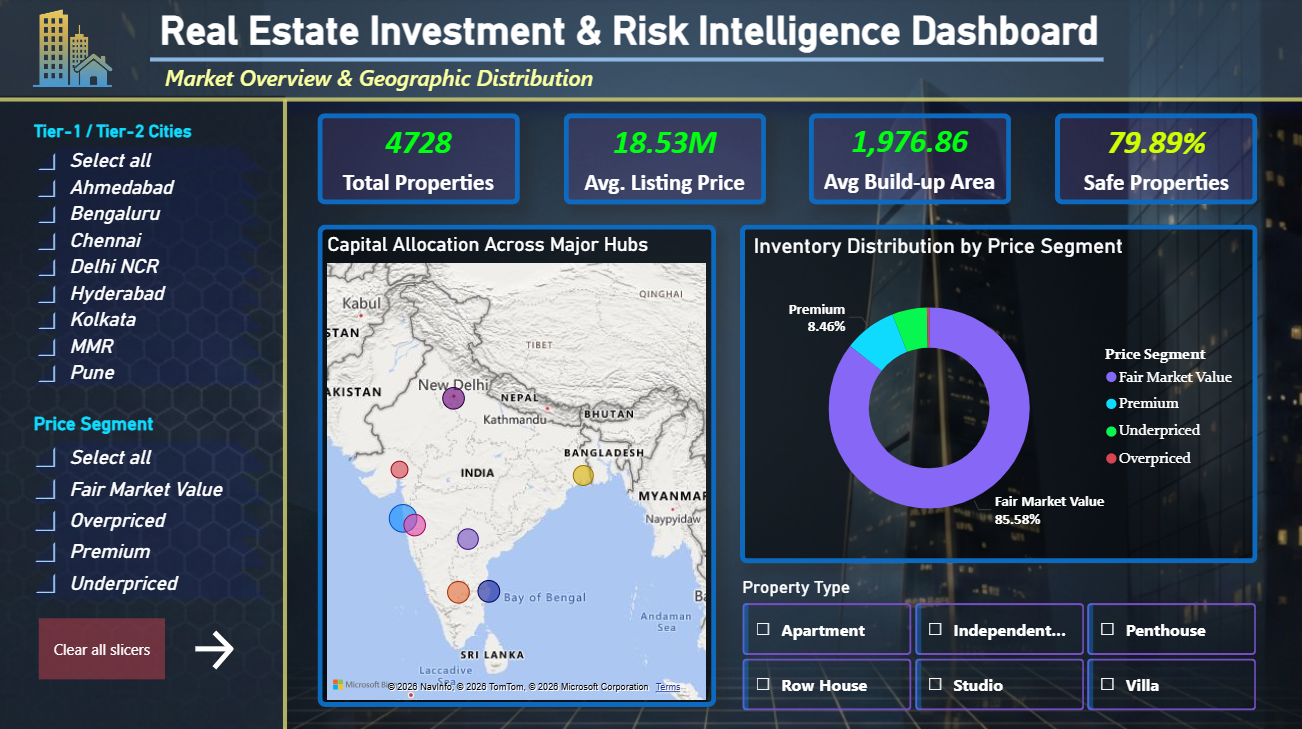

What the dashboard file says about the page in this screenshot:
{"tool":"powerbi","page":{"name":"Market Overview","canvas":[1280,720],"ordinal":0},"visuals":[{"type":"shape","box":[0,0,1279.8,100.6],"z":0},{"type":"image","box":[13.5,9.8,115.3,81],"z":1000},{"type":"textbox","box":[152.1,5,1063.8,56.4],"z":2000},{"type":"shape","box":[793.9,113.9,198.8,89.6],"z":3000},{"type":"shape","box":[553.4,113.9,198.8,89.6],"z":4000},{"type":"shape","box":[311.7,113.9,198.8,89.6],"z":5000},{"type":"shape","box":[1035.6,113.9,198.8,89.6],"z":6000},{"type":"image","box":[0,96.9,279.8,623.3],"z":7000},{"type":"shape","box":[265,100.6,29.4,619.6],"z":8000},{"type":"shape","box":[0,94.5,1279.8,12.3],"z":9000},{"type":"shape","box":[726.4,223.1,508,332.5],"z":10000},{"type":"donutChart","title":"Inventory Distribution by Price Segment","fields":{"Y":["CountNonNull(estate processed_property_data.listingid)"],"Category":["estate processed_property_data.price_category"]},"box":[735,231.9,489.6,317.8],"z":11000},{"type":"shape","box":[311.7,223.3,391.4,473.6],"z":12000},{"type":"map","title":"Capital Allocation Across Major Hubs","fields":{"Y":["Avg(estate processed_property_data.latitude)"],"X":["Avg(estate processed_property_data.longitude)"],"Series":["estate processed_property_data.city"],"Size":["Avg(estate processed_property_data.price_inr)"],"Category":["estate processed_property_data.city","estate processed_property_data.locality"]},"box":[316.6,231.9,381.6,462.6],"z":13000},{"type":"listSlicer","fields":{"Values":["estate processed_property_data.city"]},"box":[28.2,121.5,236.8,269.9],"z":14000},{"type":"advancedSlicerVisual","title":"Property Type","fields":{"Values":["estate processed_property_data.propertytype"]},"box":[723.9,569.3,516.6,136.2],"z":15000},{"type":"listSlicer","fields":{"Values":["estate processed_property_data.price_category"]},"box":[28.2,408.6,236.8,187.7],"z":16000},{"type":"actionButton","box":[38,609.8,123.9,60.1],"z":17000},{"type":"actionButton","box":[185.3,617.2,58.9,47.9],"z":18000},{"type":"textbox","box":[157,59,442.9,39.3],"z":19000},{"type":"shape","box":[147.2,55.2,936.2,12.3],"z":20000},{"type":"card","fields":{"Values":["CountNonNull(estate processed_property_data.listingid)"]},"box":[321.2,107.5,178.8,95],"z":22000},{"type":"card","fields":{"Values":["Avg(estate processed_property_data.price_inr)"]},"box":[563.8,107.5,178.8,95],"z":23000},{"type":"card","fields":{"Values":["Avg(estate processed_property_data.superbuiltuparea_sqft)"]},"box":[803.8,106.2,178.8,95],"z":24000},{"type":"card","fields":{"Values":["Measures (2).safe_property_%"]},"box":[1045,107.5,180,95],"z":25000}]}

Visuals, with their boxes in screenshot pixels (x1, y1, x2, y2), scaled from the page's 1280x720 canvas onto the 1302x729 screenshot:
shape: (x1=0, y1=0, x2=1301, y2=102)
image: (x1=14, y1=10, x2=131, y2=92)
textbox: (x1=155, y1=5, x2=1237, y2=62)
shape: (x1=808, y1=115, x2=1010, y2=206)
shape: (x1=563, y1=115, x2=765, y2=206)
shape: (x1=317, y1=115, x2=519, y2=206)
shape: (x1=1053, y1=115, x2=1256, y2=206)
image: (x1=0, y1=98, x2=285, y2=728)
shape: (x1=270, y1=102, x2=299, y2=728)
shape: (x1=0, y1=96, x2=1301, y2=108)
shape: (x1=739, y1=226, x2=1256, y2=563)
"Inventory Distribution by Price Segment" donutChart: (x1=748, y1=235, x2=1246, y2=557)
shape: (x1=317, y1=226, x2=715, y2=706)
"Capital Allocation Across Major Hubs" map: (x1=322, y1=235, x2=710, y2=703)
listSlicer - estate processed_property_data.city: (x1=29, y1=123, x2=270, y2=396)
"Property Type" advancedSlicerVisual: (x1=736, y1=576, x2=1262, y2=714)
listSlicer - estate processed_property_data.price_category: (x1=29, y1=414, x2=270, y2=604)
actionButton: (x1=39, y1=617, x2=165, y2=678)
actionButton: (x1=188, y1=625, x2=248, y2=673)
textbox: (x1=160, y1=60, x2=610, y2=100)
shape: (x1=150, y1=56, x2=1102, y2=68)
card - CountNonNull(estate processed_property_data.listingid): (x1=327, y1=109, x2=509, y2=205)
card - Avg(estate processed_property_data.price_inr): (x1=573, y1=109, x2=755, y2=205)
card - Avg(estate processed_property_data.superbuiltuparea_sqft): (x1=818, y1=108, x2=999, y2=204)
card - Measures (2).safe_property_%: (x1=1063, y1=109, x2=1246, y2=205)
